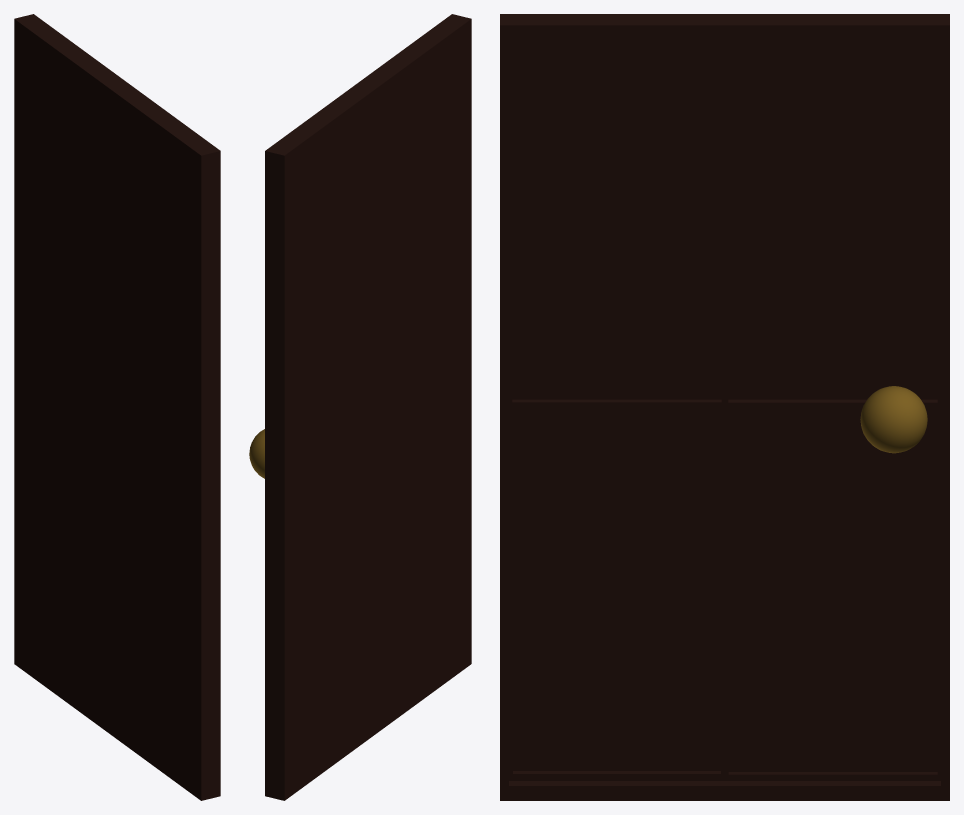
Rendered from door.fbx.
3 renders of one model, left to right at view 1: azimuth 30°, elevation 25°; view 2: azimuth 150°, elevation 25°; view 3: azimuth 270°, elevation 25°, orthographic. The views are drawn at different scales.
Parts seen in each view (by area): view 1: door; view 2: door; view 3: door.
Part boxes in pixels (x1,y1,x2,y2): door: (14, 14, 220, 800); door: (249, 14, 471, 800); door: (500, 14, 949, 800).
Size of the model in its own units: 33.77 by 381 by 200.
